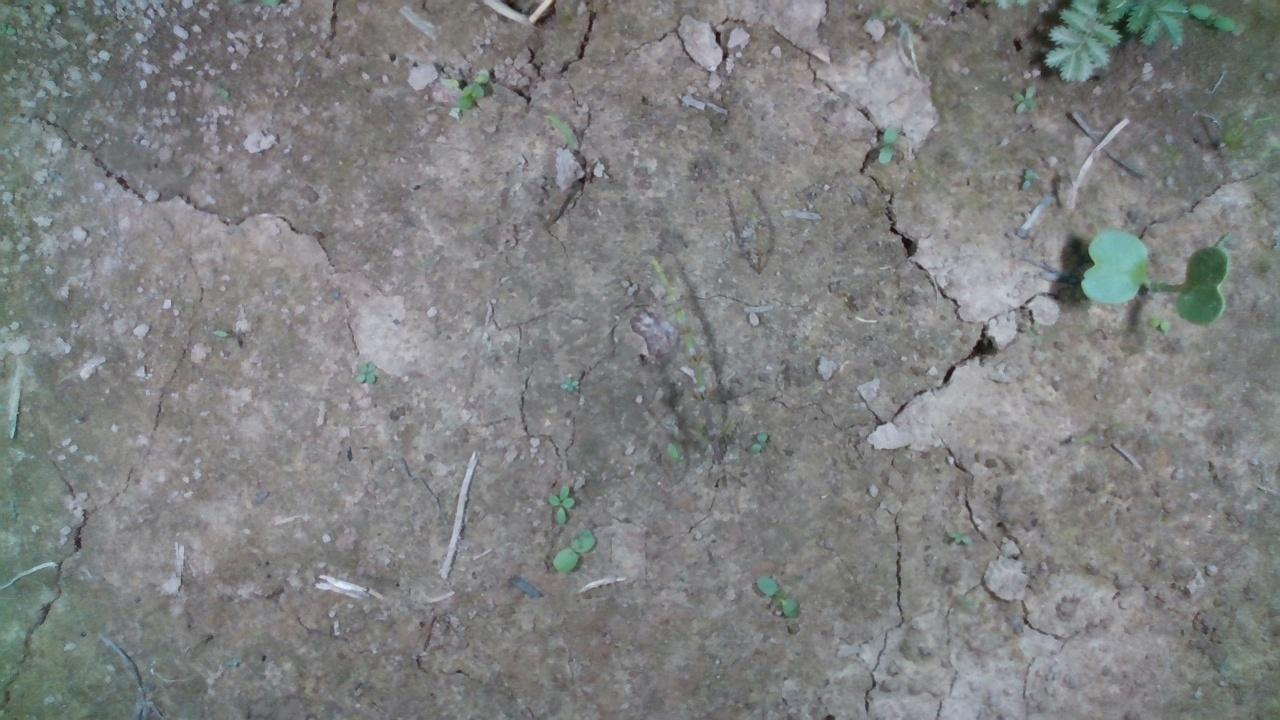weed: (754, 573, 802, 620), (551, 526, 595, 574), (547, 483, 575, 524), (1008, 83, 1038, 115), (876, 122, 897, 165), (353, 359, 377, 384), (749, 429, 768, 455), (1146, 315, 1170, 332)
